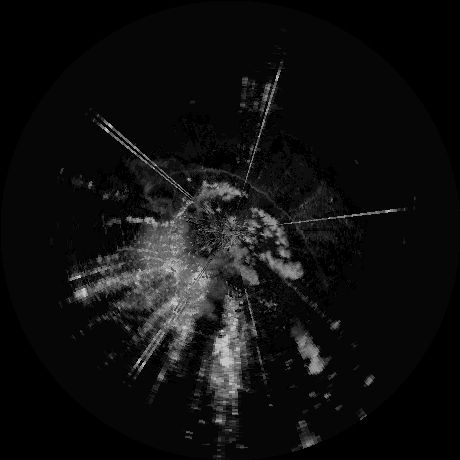frontgust: (197, 165, 308, 245)
